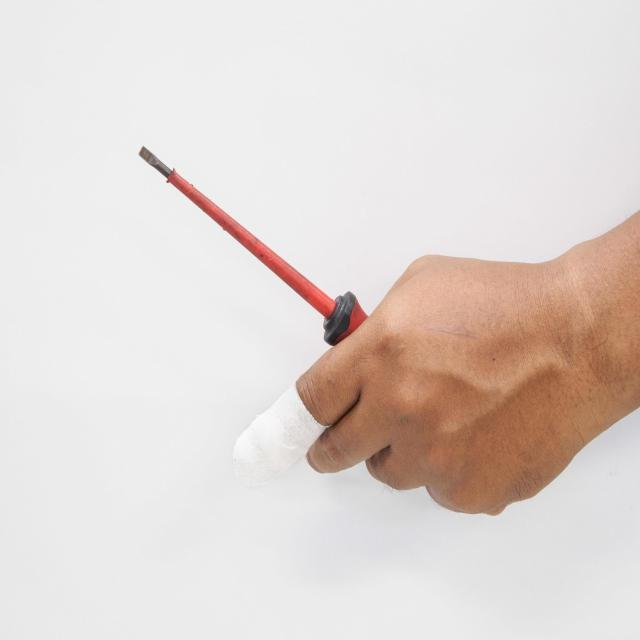screwdriver: (128, 133, 388, 353)
